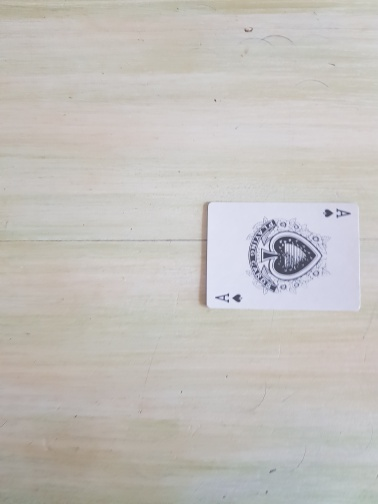ace: (204, 201, 362, 312)
